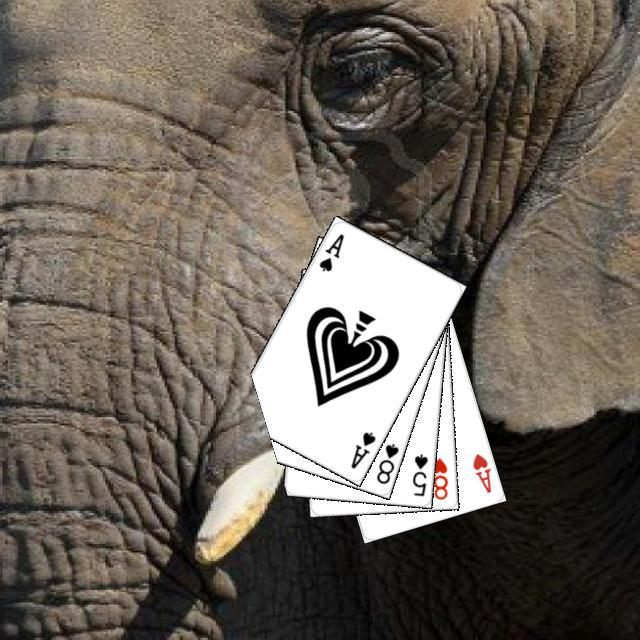5s: (407, 449, 430, 498)
8h: (427, 453, 449, 502)
8s: (371, 439, 401, 486)
Ah: (467, 448, 493, 495)
As: (314, 229, 346, 273), (346, 427, 377, 471)
